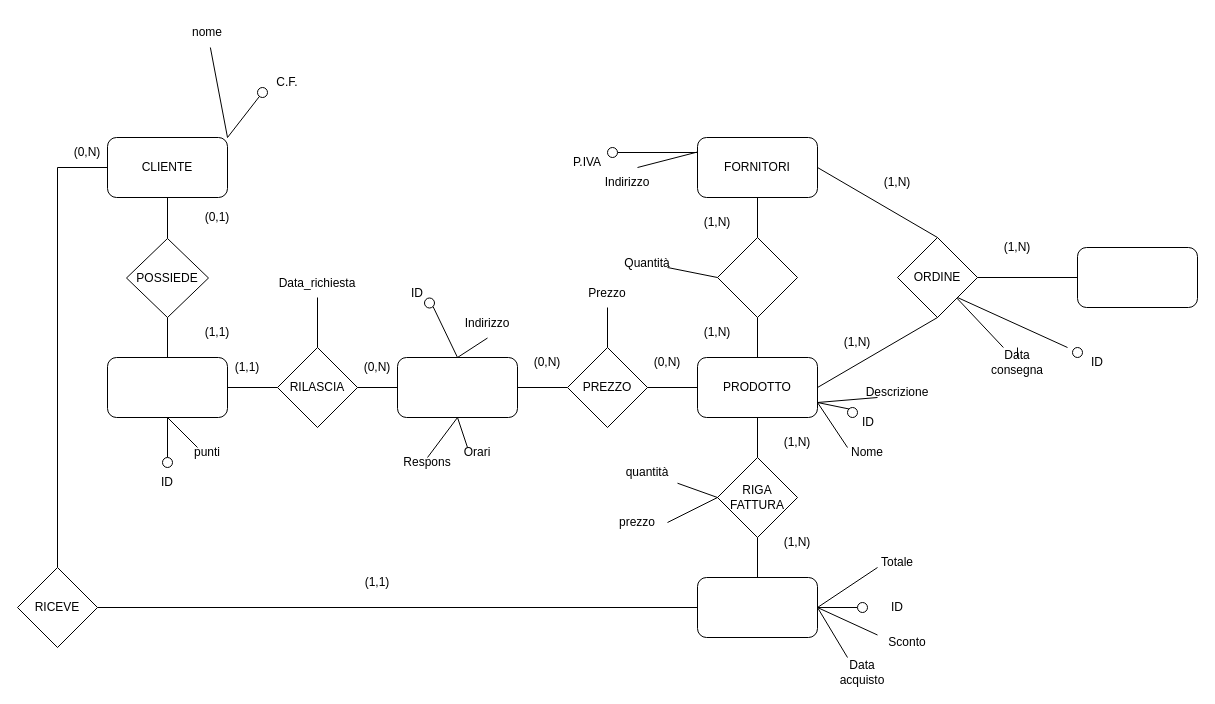
Some shapes in this 1215 by 704 pixel diagram are drawn without their labels. Here are the shapes that lost their labels. From the top down, the centre of each, then its label:
the point at 757,277: FORNISCE
the point at 1137,277: MANAGER
the point at 167,387: TESSERA_FEDELTA'
the point at 457,387: NEGOZIO
the point at 757,607: FATTURA
